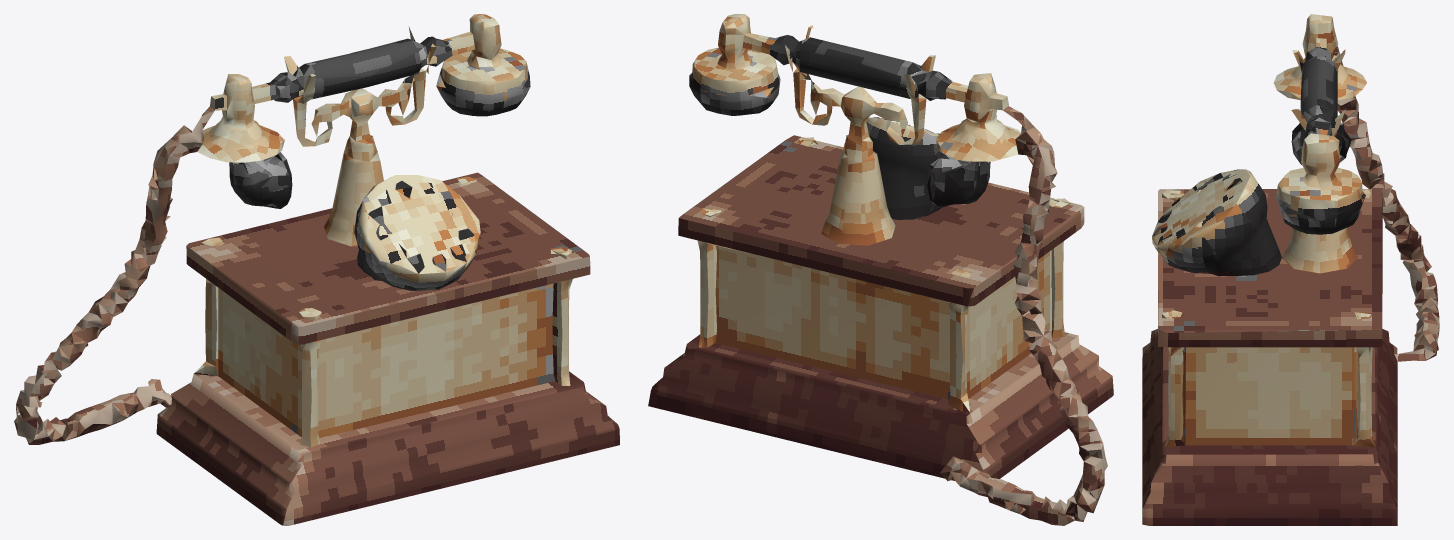
Rendered from phone_rotary.glb.
3 renders of one model, left to right at view 1: azimuth 30°, elevation 25°; view 2: azimuth 150°, elevation 25°; view 3: azimuth 270°, elevation 25°, orthographic.
Visible parts, largest first — view 1: mesh; view 2: mesh; view 3: mesh.
Part boxes in pixels (left/top/right/bottom): mesh: left=14, top=14, right=619, bottom=525; mesh: left=648, top=14, right=1113, bottom=525; mesh: left=1142, top=14, right=1439, bottom=525.
Bounding box in the file's own units: 0.1684 × 0.13 × 0.0951.
Materials: 1 (1 with a texture image).
